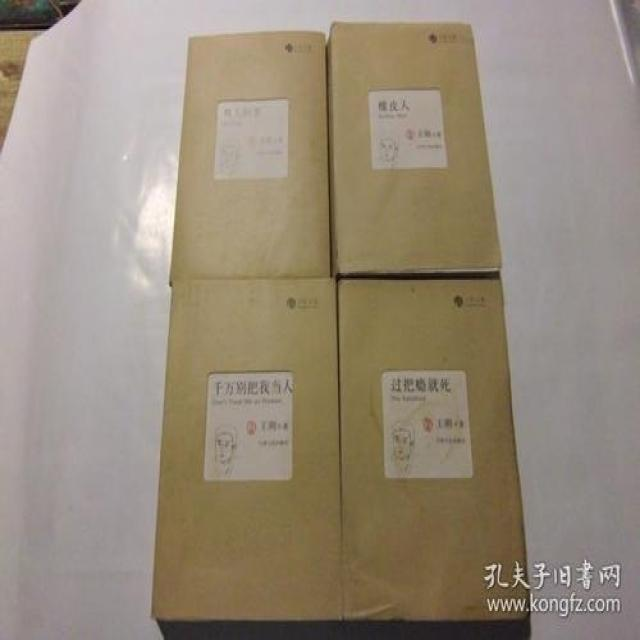Carton: (340, 271, 532, 623), (152, 278, 340, 621), (330, 24, 500, 271), (172, 27, 330, 273)
